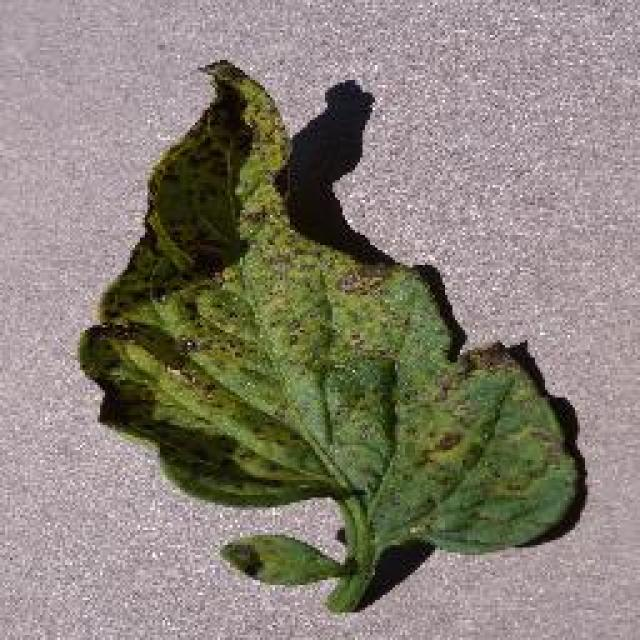Tomato___Septoria_leaf_spot: (80, 60, 578, 610)
